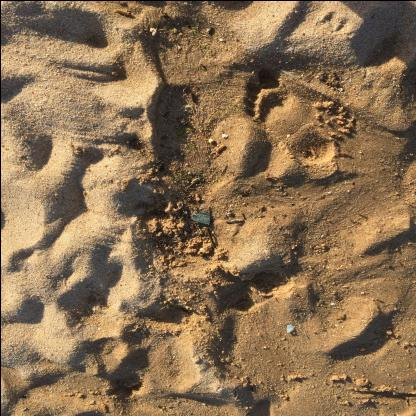Paper: (115, 7, 130, 15), (214, 143, 225, 153), (99, 402, 107, 412)
Plastic: (187, 211, 209, 224)
